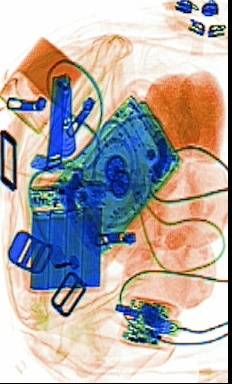powerbank: (27, 178, 108, 290)
